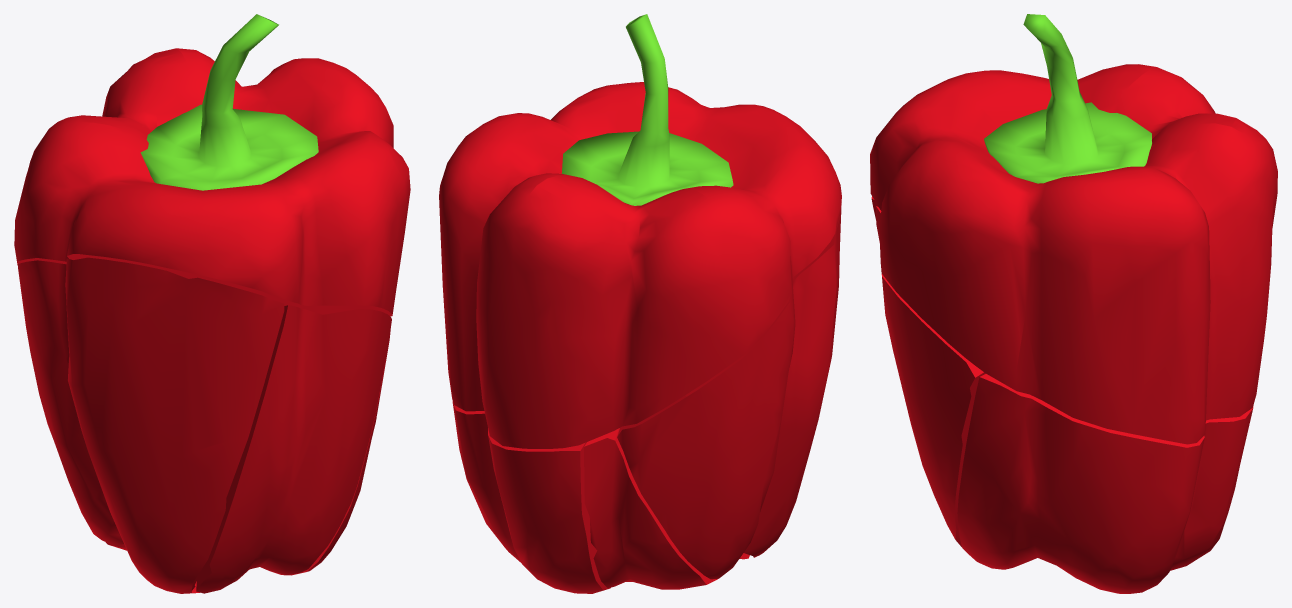
File: bellPeper.fbx
The picture shows the model from 3 angles, left to right: view 1: azimuth 30°, elevation 25°; view 2: azimuth 150°, elevation 25°; view 3: azimuth 270°, elevation 25°; orthographic projection. The views are drawn at different scales.
Parts seen in each view (by area): view 1: PepperWhole_cell.001, PepperWhole_cell.004, PepperWhole_cell.003, PepperWhole_cell.002; view 2: PepperWhole_cell.001, PepperWhole_cell.004, PepperWhole_cell.002, PepperWhole_cell; view 3: PepperWhole_cell.001, PepperWhole_cell.002, PepperWhole_cell.003.
Boxes of the visible parts, bbox=[...] form: PepperWhole_cell.001: bbox=[14, 14, 410, 316]; PepperWhole_cell.004: bbox=[17, 257, 284, 593]; PepperWhole_cell.003: bbox=[196, 305, 391, 593]; PepperWhole_cell.002: bbox=[270, 330, 390, 575]; PepperWhole_cell.001: bbox=[439, 14, 841, 448]; PepperWhole_cell.004: bbox=[617, 204, 841, 579]; PepperWhole_cell.002: bbox=[452, 401, 610, 593]; PepperWhole_cell: bbox=[584, 428, 749, 589]; PepperWhole_cell.001: bbox=[870, 14, 1277, 444]; PepperWhole_cell.002: bbox=[957, 373, 1253, 593]; PepperWhole_cell.003: bbox=[875, 206, 985, 546].
Size of the model in its own units: 21.19 by 31.88 by 21.37.
